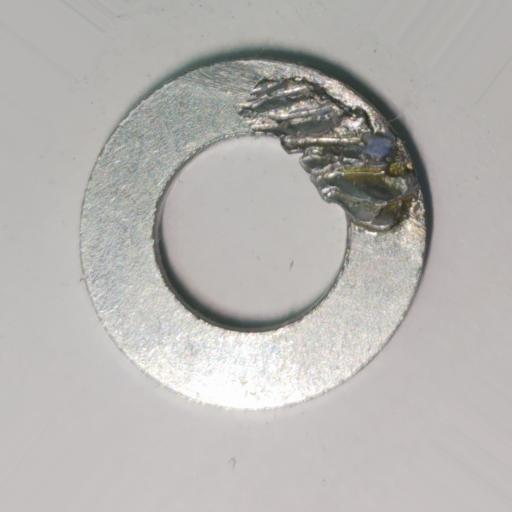excess_material: (236, 76, 422, 232)
